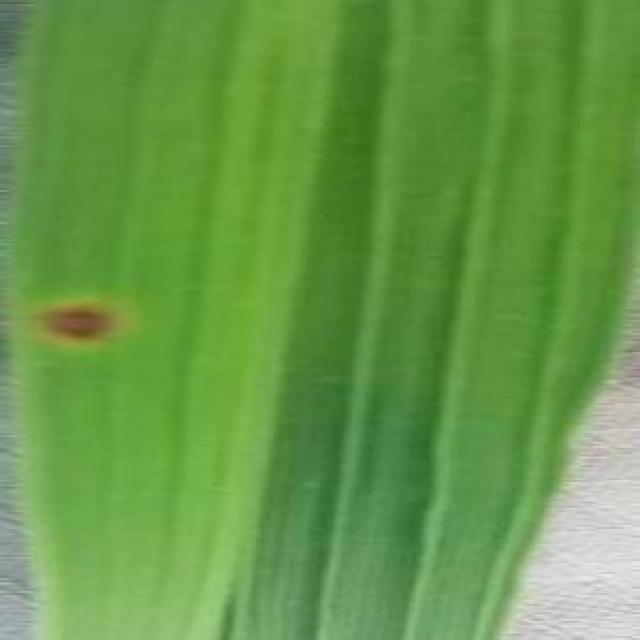Brown_Spot: (39, 298, 130, 355)
